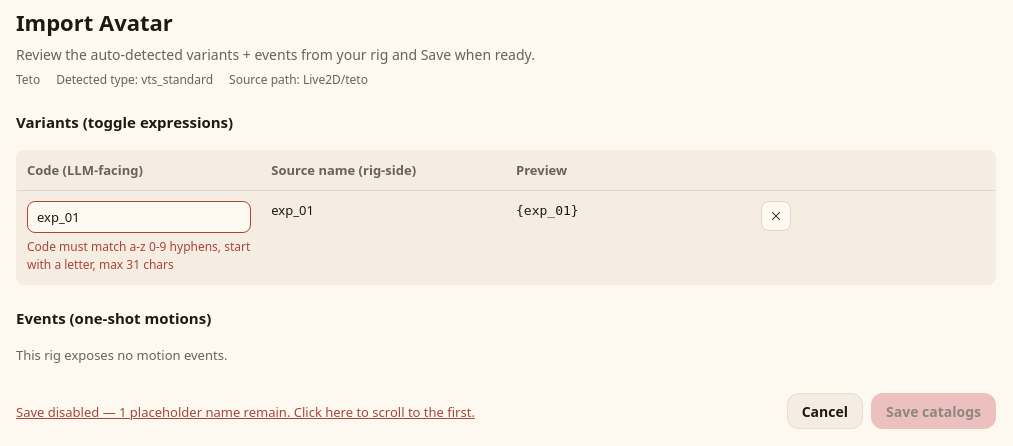
Test: AvatarImport review route › enables Save after user renames the placeholder
Expected: the button "Save catalogs" is disabled, x1=871 y1=393 x2=996 y2=429
Replace the text in the field with test id "variant-code-input-0" with "joy": (139, 217) x1=27 y1=201 x2=251 y2=233
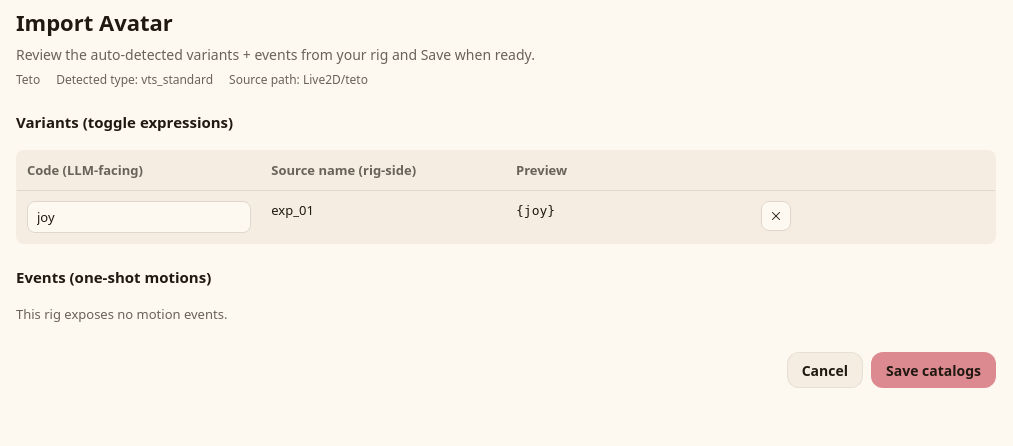
Expected: the button "Save catalogs" is enabled, x1=871 y1=352 x2=996 y2=388
